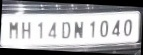character: (8, 20, 18, 38), (20, 21, 30, 39), (47, 21, 56, 38), (61, 21, 70, 38), (74, 21, 83, 38), (99, 19, 108, 36), (111, 20, 120, 35), (123, 19, 131, 35), (37, 21, 43, 38), (90, 20, 95, 38)
